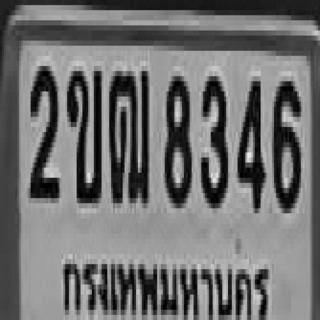A02: (65, 64, 100, 195)
A18: (107, 63, 148, 201)
N02: (28, 61, 57, 193)
N03: (199, 71, 226, 203)
N04: (236, 71, 262, 208)
N06: (270, 76, 299, 208)
N08: (163, 71, 190, 203)
P04: (57, 245, 271, 320)
